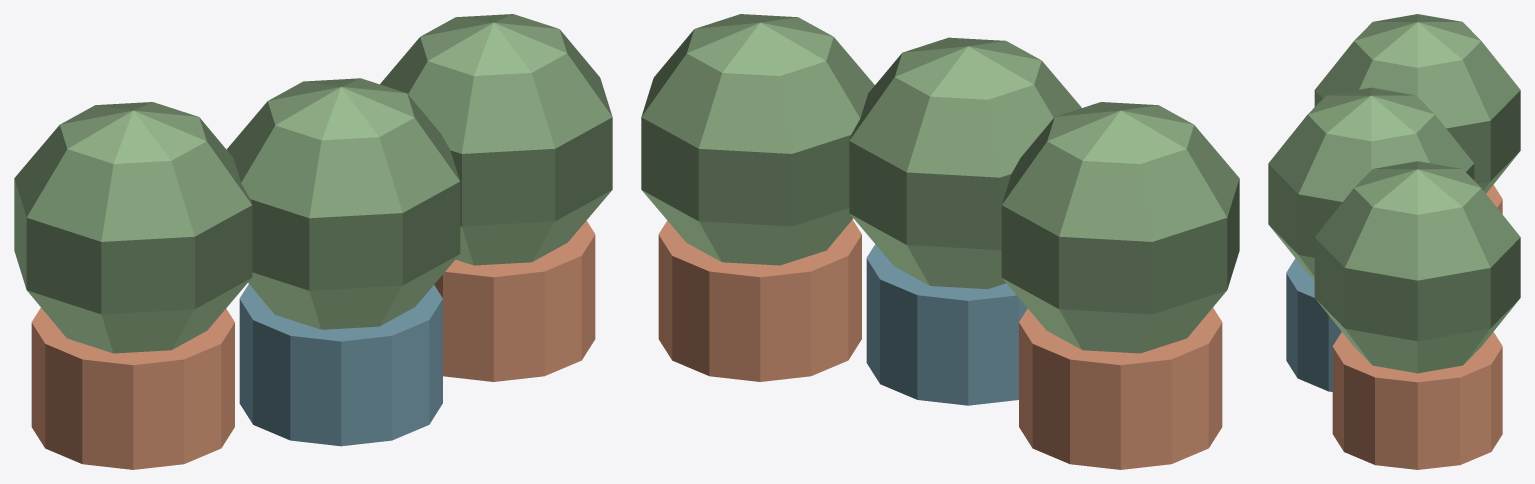
Rendered from PRP_HOUSE_002_flower_pot_set.glb.
The picture shows the model from 3 angles, left to right: view 1: azimuth 30°, elevation 25°; view 2: azimuth 150°, elevation 25°; view 3: azimuth 270°, elevation 25°; orthographic projection. The views are drawn at different scales.
Parts seen in each view (by area): view 1: Part_48, Part_124, Part_200, Part_125, Part_201, Part_49, Part_53, Part_12, Part_161, Part_88, Part_09, Part_85 (+51 smaller); view 2: Part_63, Part_139, Part_215, Part_140, Part_216, Part_64, Part_58, Part_21, Part_100, Part_176, Part_173, Part_24 (+51 smaller); view 3: Part_225, Part_190, Part_226, Part_191, Part_185, Part_152, Part_115, Part_74, Part_182, Part_79, Part_155, Part_196 (+44 smaller).
Boxes of the visible parts, x1,y1,x2,y2 form: Part_48: (101,236,194,314); Part_124: (309,213,402,290); Part_200: (462,149,555,226); Part_125: (309,137,402,218); Part_201: (462,73,554,153); Part_49: (101,161,194,241); Part_53: (26,218,101,314); Part_12: (82,359,133,469); Part_161: (493,271,544,381); Part_88: (290,336,341,446); Part_09: (133,359,183,469); Part_85: (341,336,391,446); Part_63: (1059,236,1152,314); Part_139: (906,172,999,249); Part_215: (698,149,791,226); Part_140: (907,96,999,177); Part_216: (699,73,791,153); Part_64: (1059,161,1152,241); Part_58: (1152,218,1227,314); Part_21: (1120,359,1171,469); Part_100: (917,295,968,405); Part_176: (709,271,760,381); Part_173: (760,271,810,381); Part_24: (1070,359,1120,469); Part_225: (1417,268,1490,341); Part_190: (1345,268,1417,341); Part_226: (1417,207,1490,280); Part_191: (1345,207,1417,280); Part_185: (1417,377,1460,469); Part_152: (1375,377,1417,469); Part_115: (1298,133,1371,201); Part_74: (1417,60,1490,128); Part_182: (1460,364,1491,464); Part_79: (1297,291,1328,391); Part_155: (1344,364,1374,464); Part_196: (1315,188,1372,267).
Size of the model in its own units: 1.43 by 0.755 by 0.6526.
